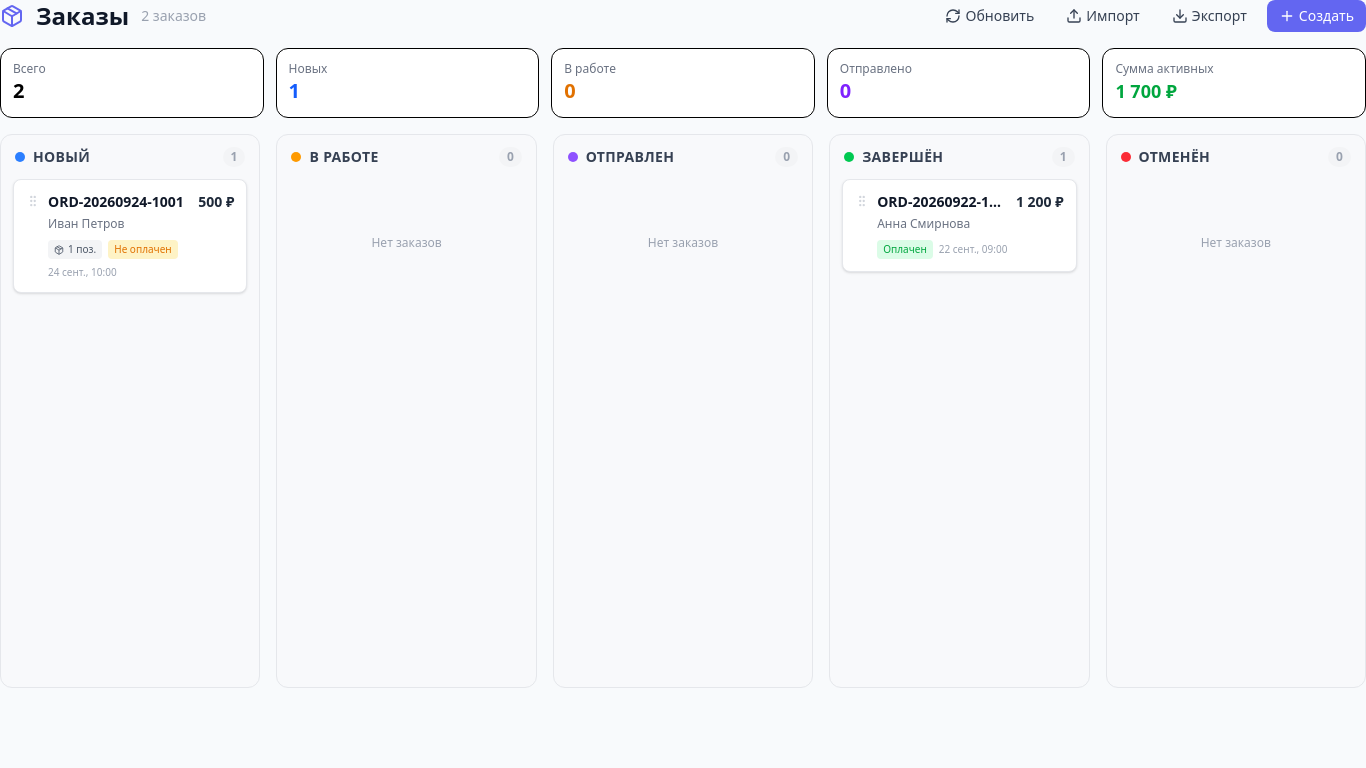
Test: Orders page › creates an order from the create modal
The width and height of the screenshot is (1366, 768).
Expected: the text "ORD-20260924-1001" is shown, [48, 192, 184, 212]
Click the button "Создать": click(1316, 16) [1267, 0, 1365, 32]
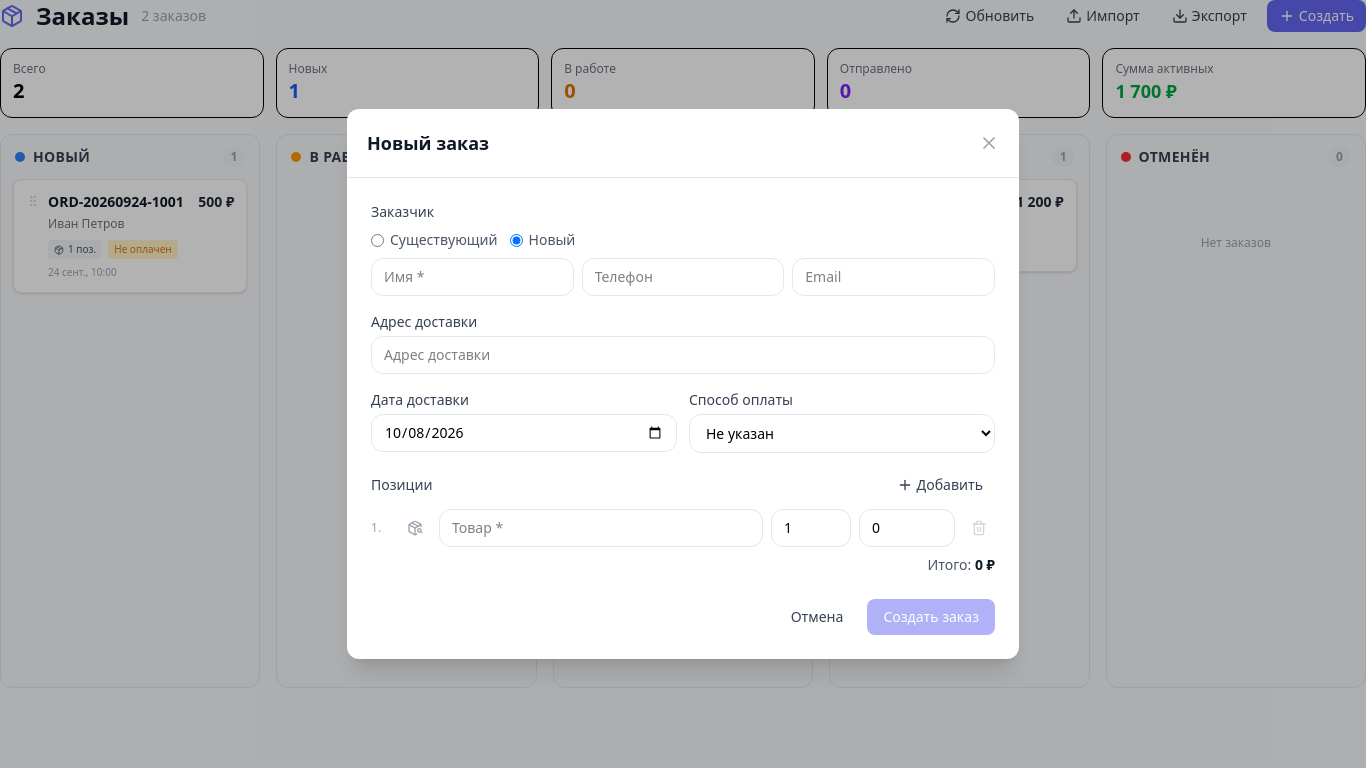
Now the heading "Новый заказ" is shown, box [367, 129, 489, 157]
In the field with placeholder "Имя *": (472, 277) [371, 258, 574, 296], type "Новый клиент"
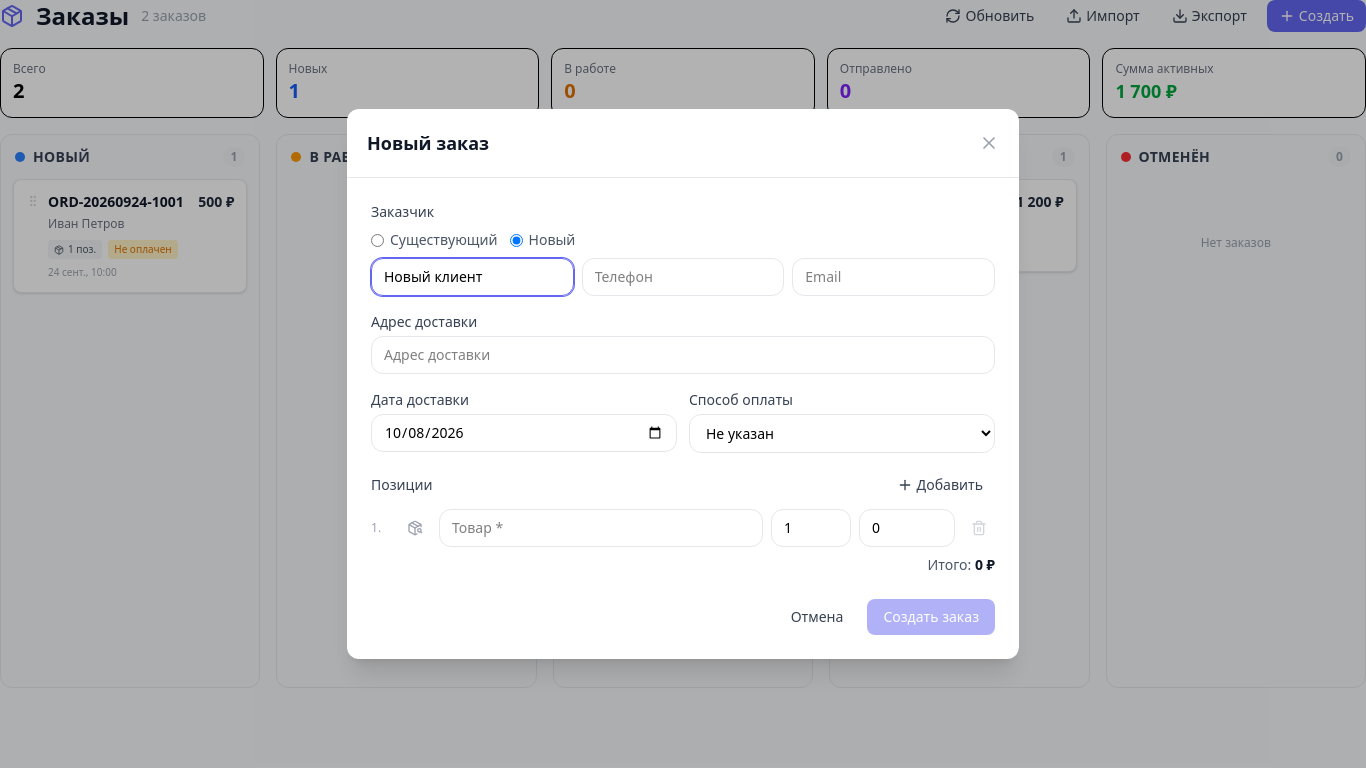
In the field with placeholder "Товар *": (601, 528) [439, 509, 763, 547], type "Сыр"
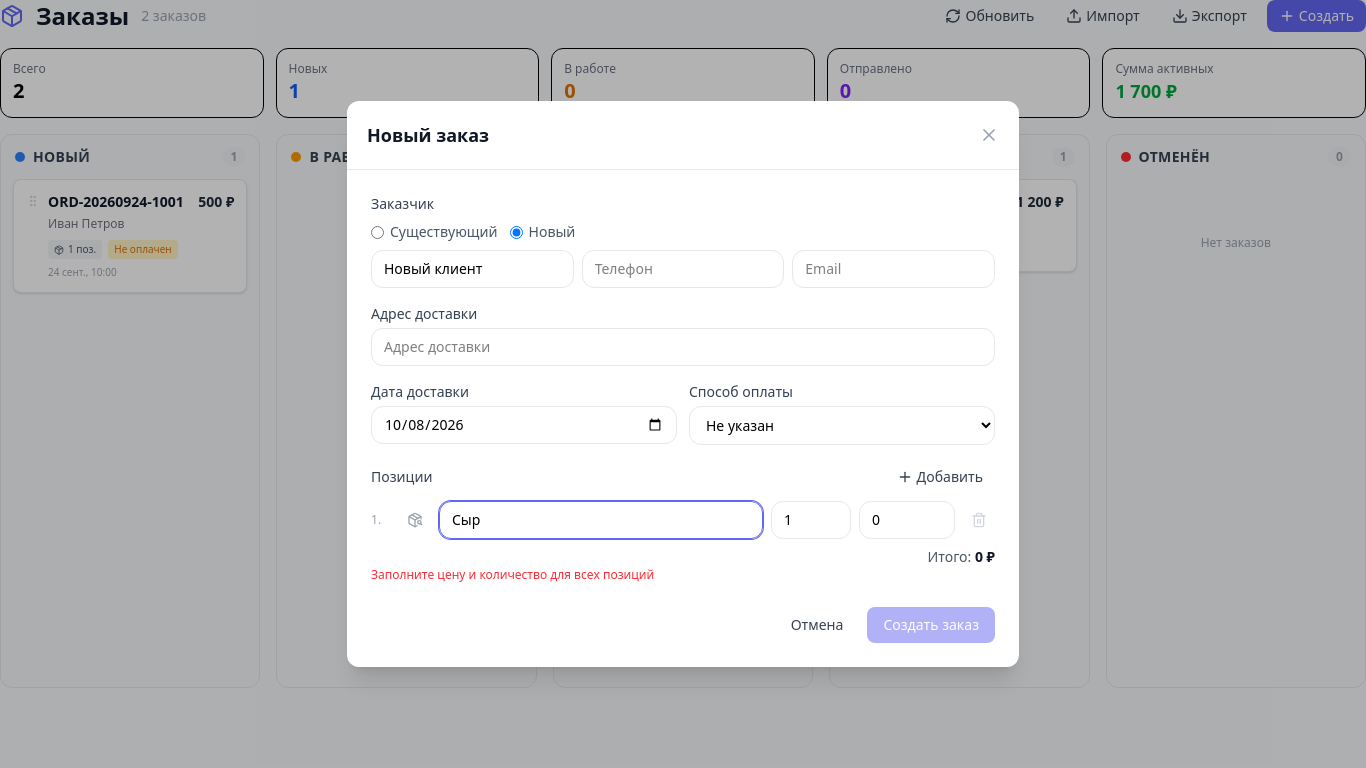
In the 2nd number field with placeholder "Цена": (907, 520) [859, 501, 955, 539], type "300"
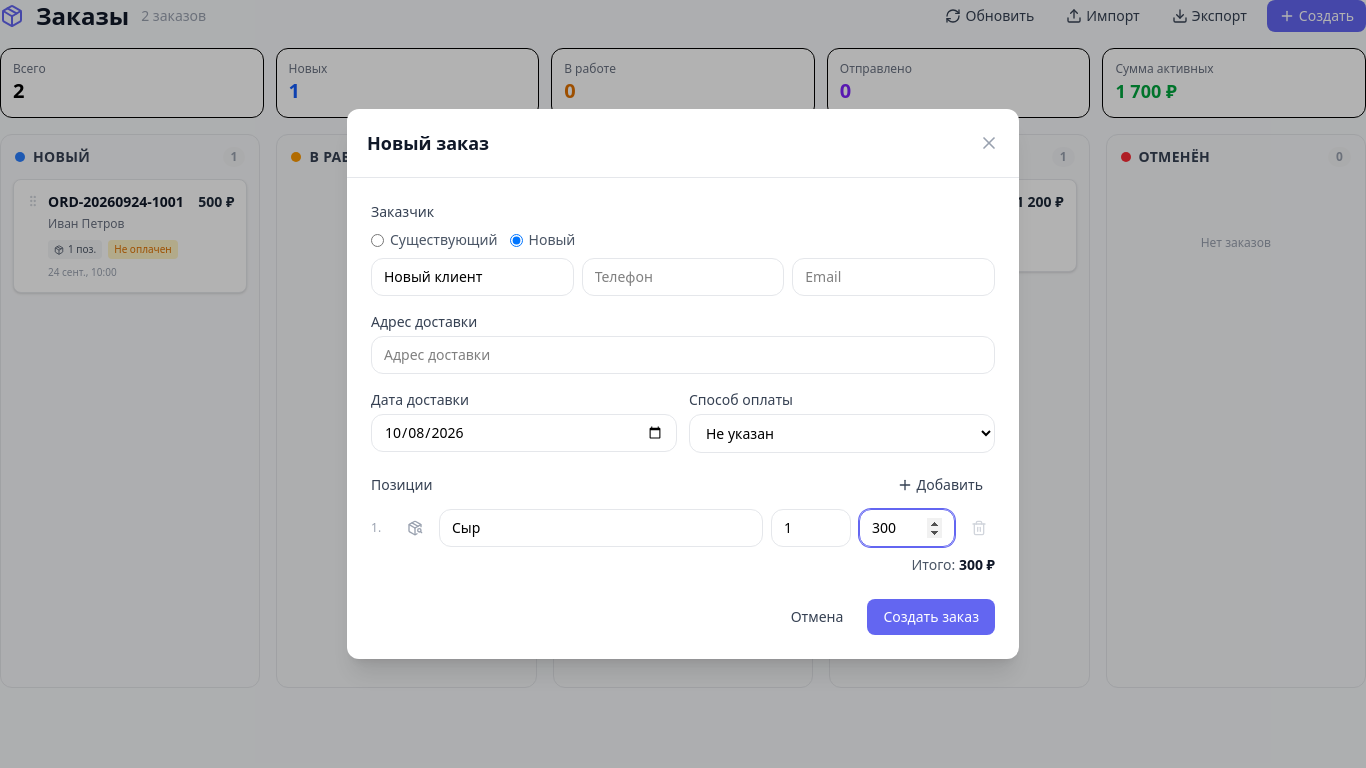
Click the button "Создать заказ": click(931, 617) [867, 599, 995, 635]
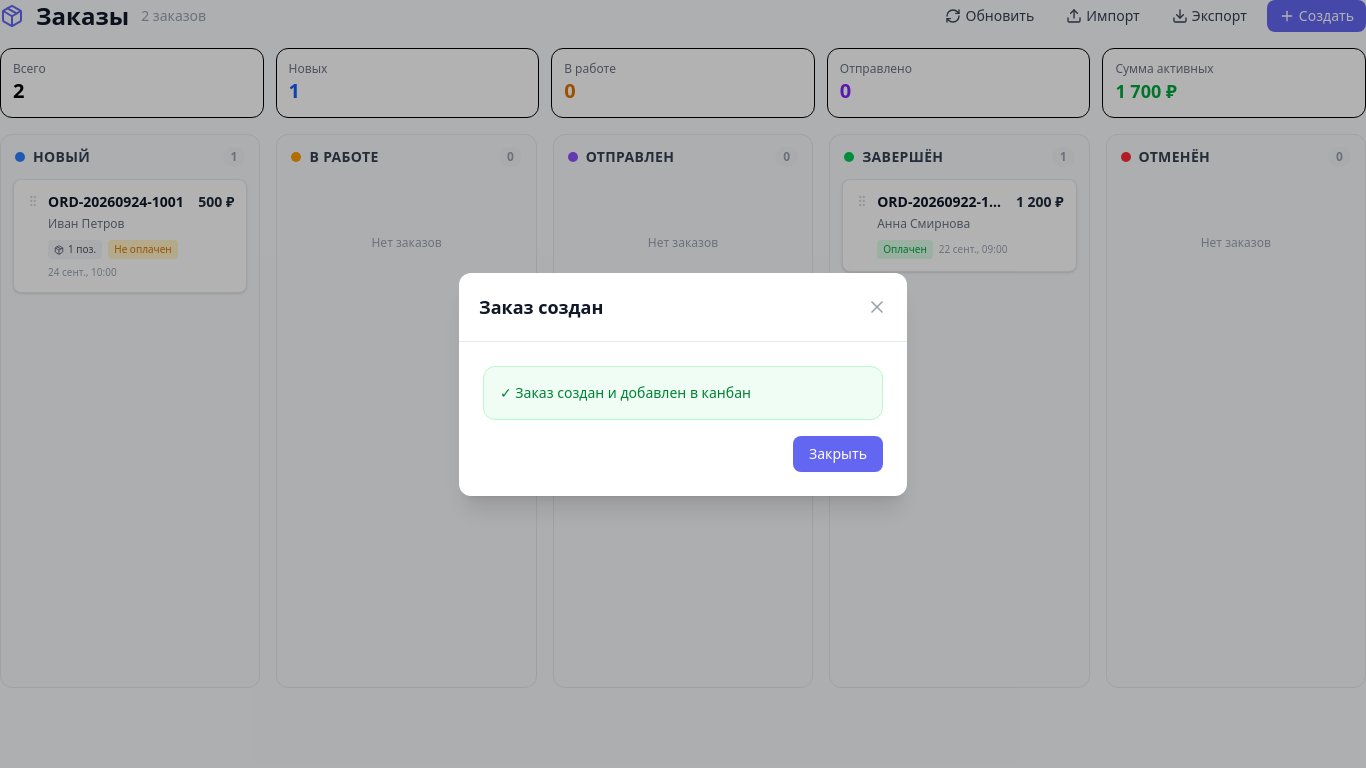
Now the heading "Заказ создан" is shown, box [479, 292, 603, 320]
